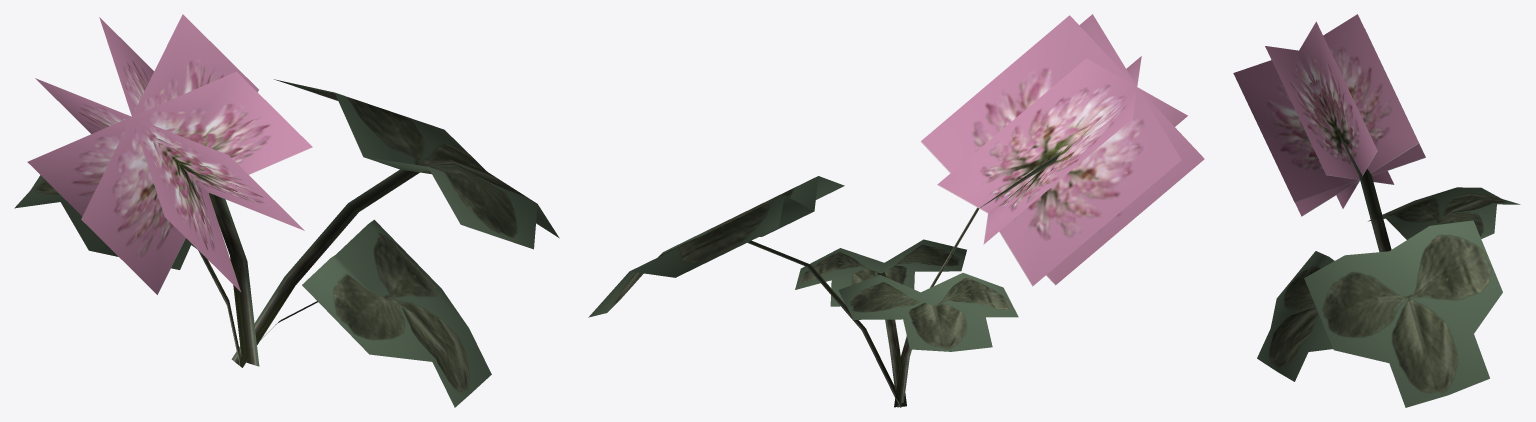
Rendered from veg_clovers_purple_02_scaled.fbx.
3 views of the same model, side by side, from view 1: azimuth 30°, elevation 25°; view 2: azimuth 150°, elevation 25°; view 3: azimuth 270°, elevation 25° (orthographic). The views are drawn at different scales.
Visible parts, largest first — view 1: veg_clovers_purple_02; view 2: veg_clovers_purple_02; view 3: veg_clovers_purple_02.
Part boxes in pixels (x1,y1,x2,y2): veg_clovers_purple_02: (14, 14, 559, 407); veg_clovers_purple_02: (588, 14, 1204, 407); veg_clovers_purple_02: (1233, 14, 1520, 407).
Size of the model in its own units: 4.07 by 2.86 by 2.69.
